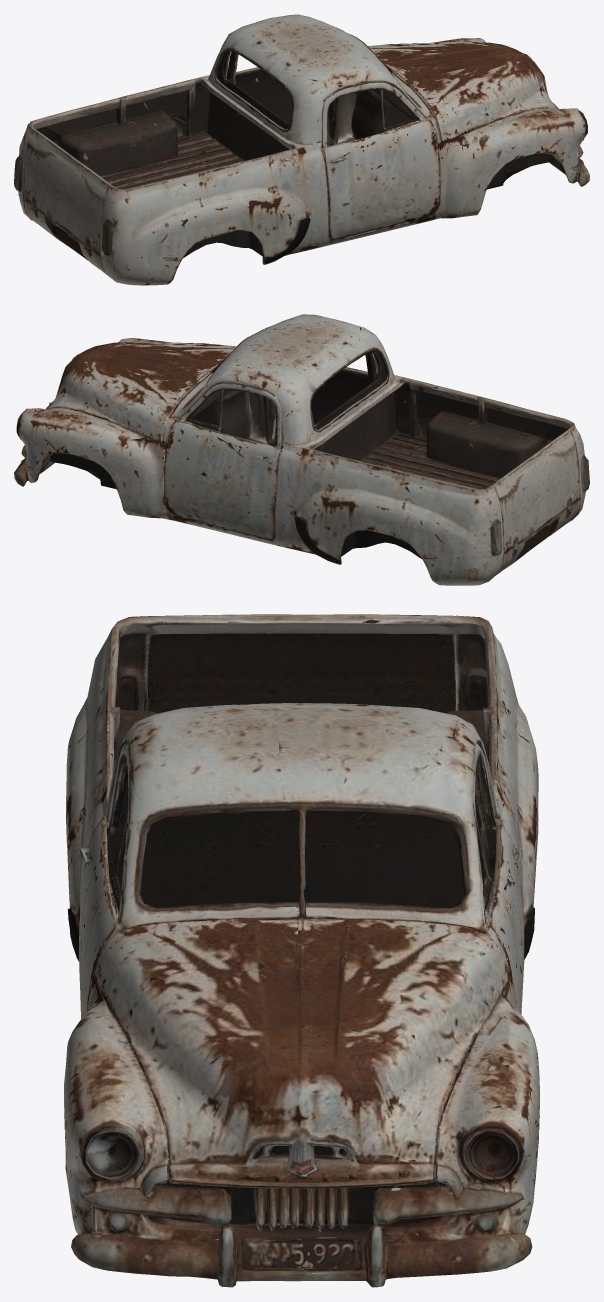
Rendered from relic_pu.glb.
The picture shows the model from 3 angles, top to bottom: view 1: azimuth 30°, elevation 25°; view 2: azimuth 150°, elevation 25°; view 3: azimuth 270°, elevation 25°; orthographic projection. The views are drawn at different scales.
Parts seen in each view (by area): view 1: relic_pu; view 2: relic_pu; view 3: relic_pu.
Part boxes in pixels (bbox=[...]): relic_pu: bbox=[14, 14, 589, 285]; relic_pu: bbox=[14, 314, 589, 585]; relic_pu: bbox=[64, 614, 539, 1287].
Bounding box in the file's own units: 4.95 × 1.57 × 2.07.
Materials: 1 (1 with a texture image).
